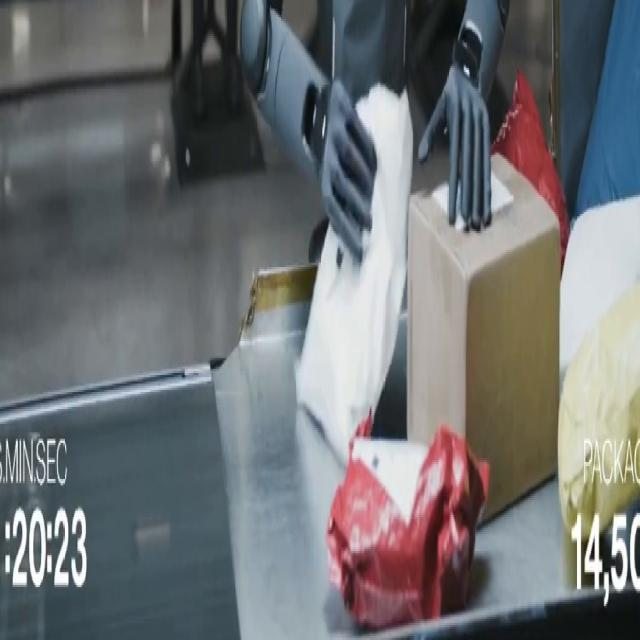package: (408, 155, 560, 517), (296, 85, 412, 464), (327, 426, 489, 629), (558, 287, 639, 540), (492, 70, 569, 269), (560, 198, 639, 389), (575, 0, 639, 218)
